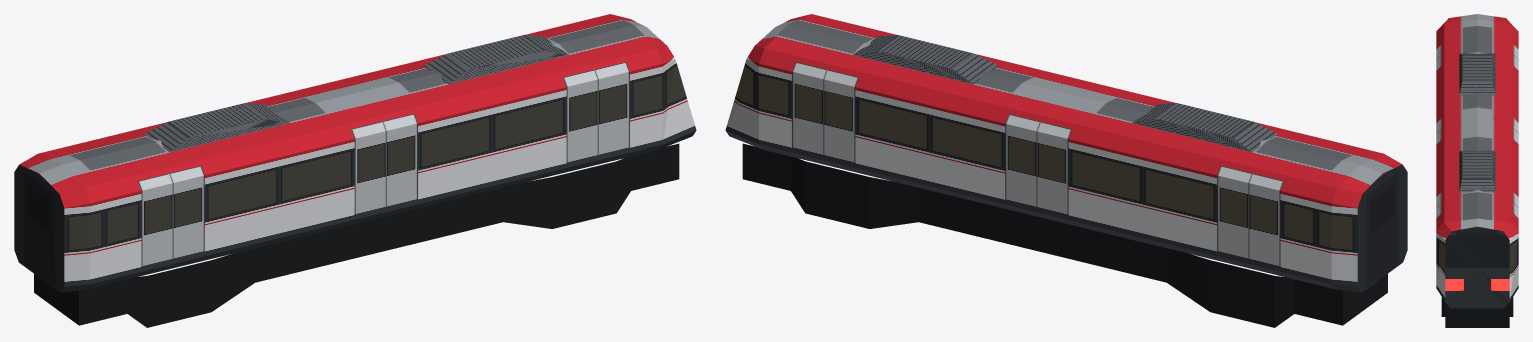
File: val_208__tail.glb
3 views of the same model, side by side, from view 1: azimuth 30°, elevation 25°; view 2: azimuth 150°, elevation 25°; view 3: azimuth 270°, elevation 25° (orthographic). The views are drawn at different scales.
Visible parts, largest first — view 1: val_208__tail; view 2: val_208__tail; view 3: val_208__tail.
Boxes of the visible parts, x1,y1,x2,y2 form: val_208__tail: (14,14,696,327); val_208__tail: (725,14,1407,327); val_208__tail: (1436,14,1518,327).
Size of the model in its own units: 13 by 3.25 by 2.06.
1 material, 1 textured.
